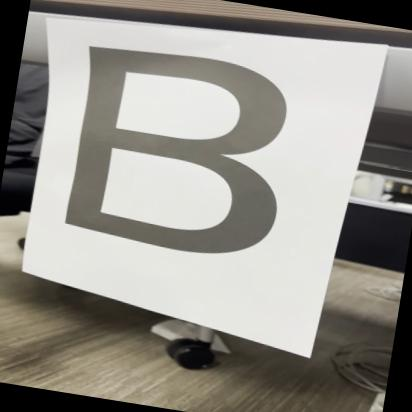seat: (34, 25, 329, 282)
